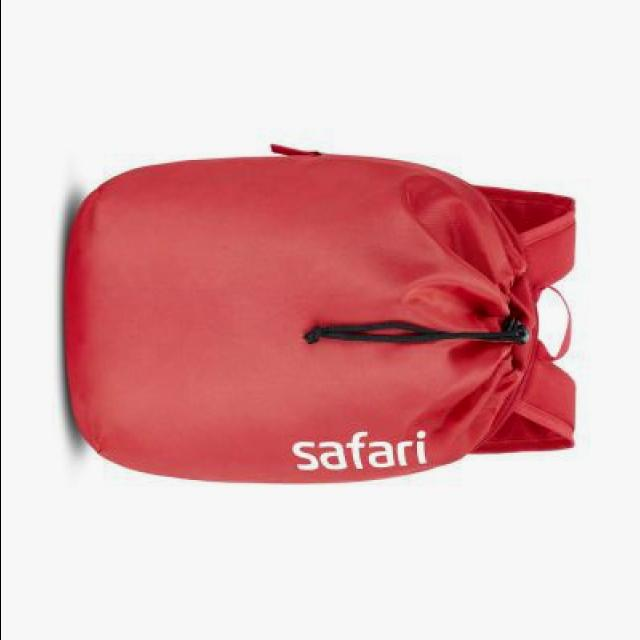backpack: (65, 144, 579, 486)
